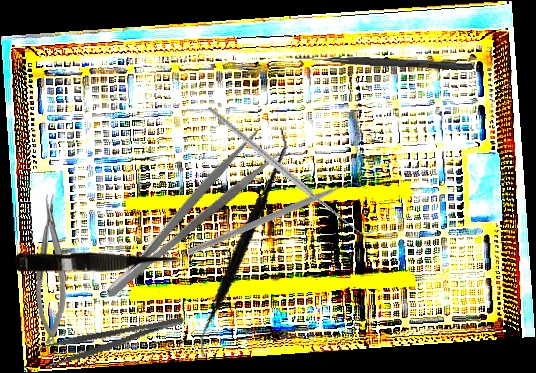Chopper: (186, 123, 369, 318)
Dressing Forceps: (89, 127, 283, 303), (39, 313, 189, 369)
Hook Surgical: (205, 67, 375, 273), (294, 54, 474, 71)
Micro Scissor: (12, 250, 188, 277)
Needle Holder: (33, 193, 70, 346)
Spatula Surgical: (163, 127, 321, 358)
